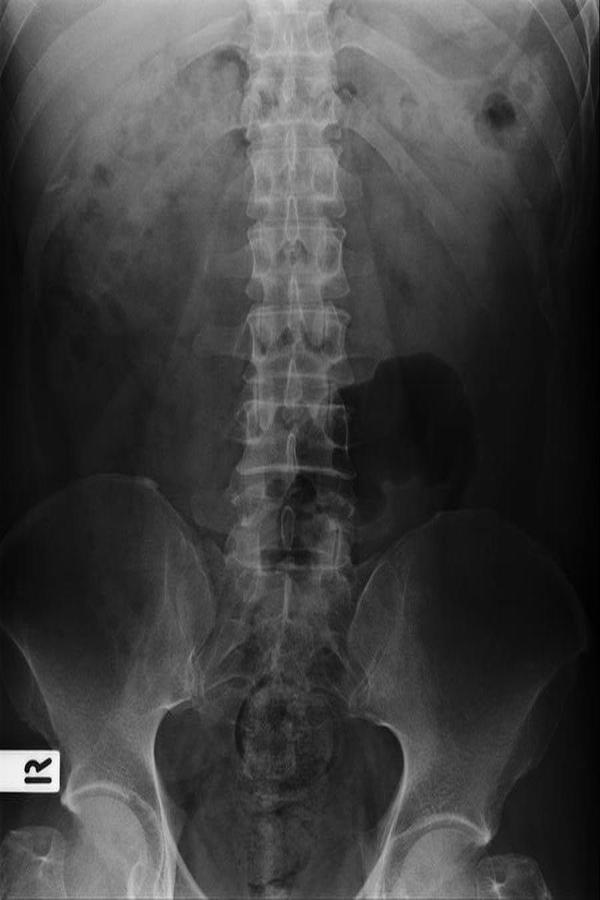lumbar scoliosis: (223, 4, 356, 623)
